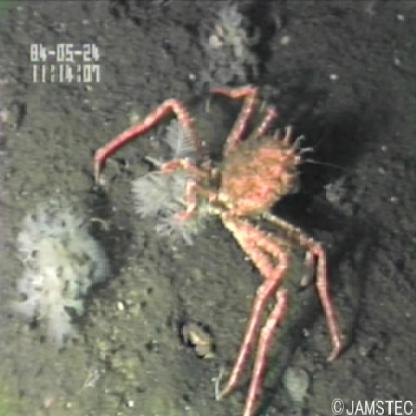Bio: (89, 81, 348, 416)
